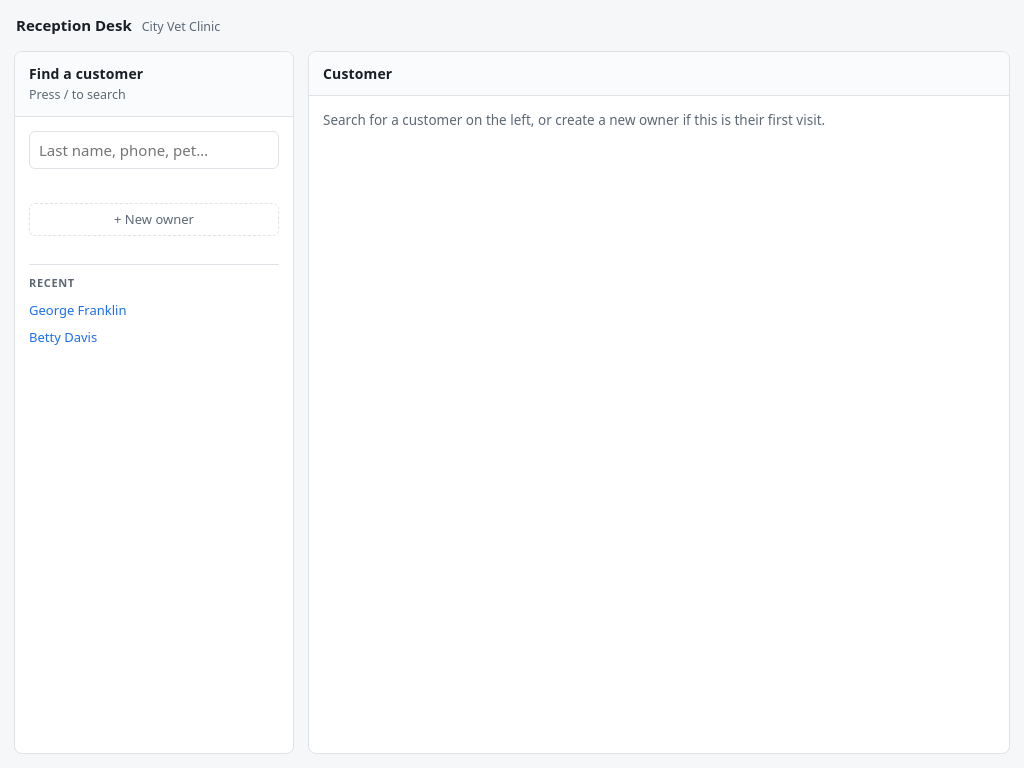
reception desk workflow › refreshes the search row when the owner behind it is edited
In the field named "search by last name": coordinates (154, 150) [29,130,279,169], type "Franklin"
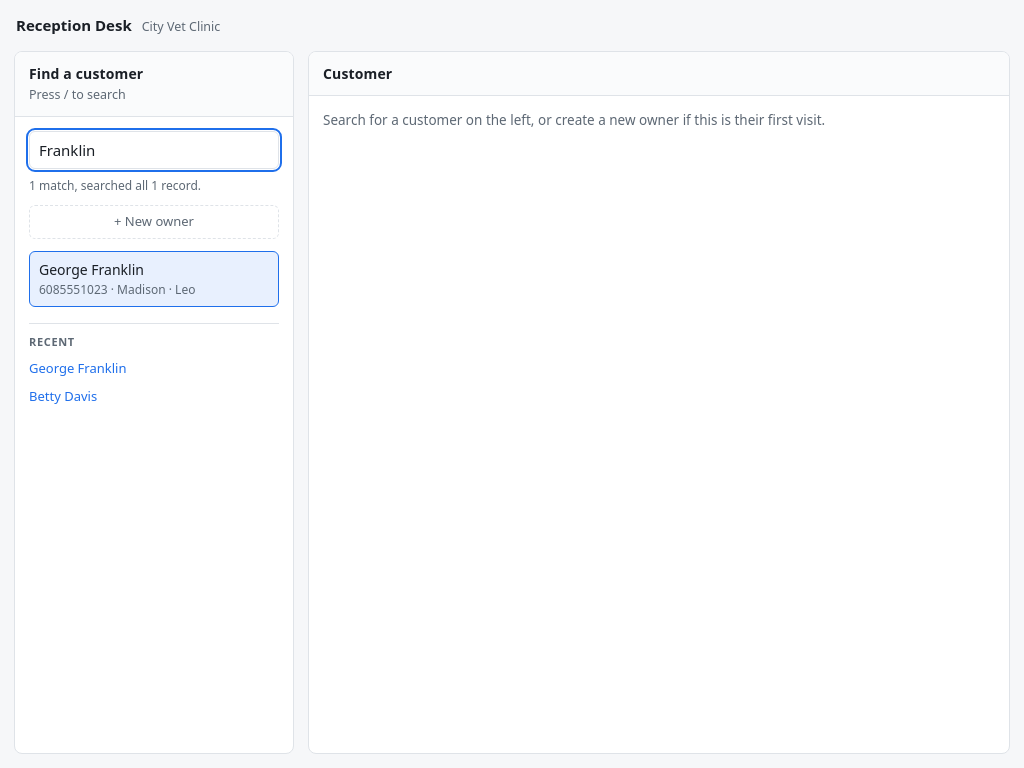
Click the button "George Franklin 6085551023 · Madison · Leo": coordinates (154, 278) [29,250,279,306]
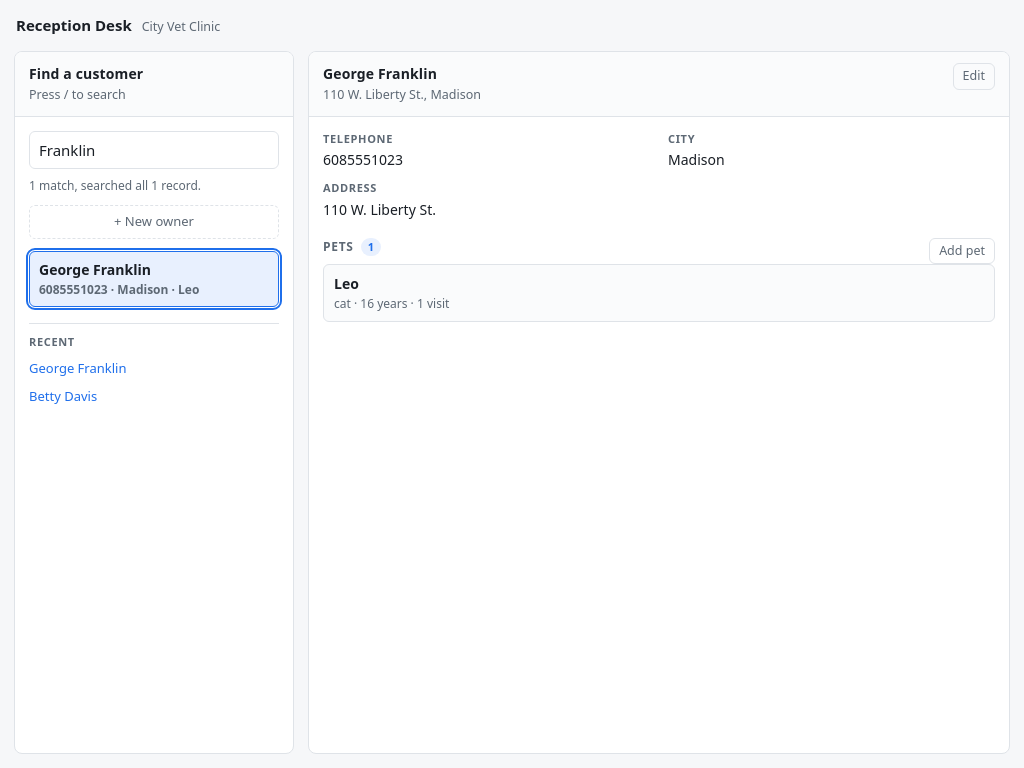
Click the button "Edit": coordinates (974, 76) [953,63,995,90]
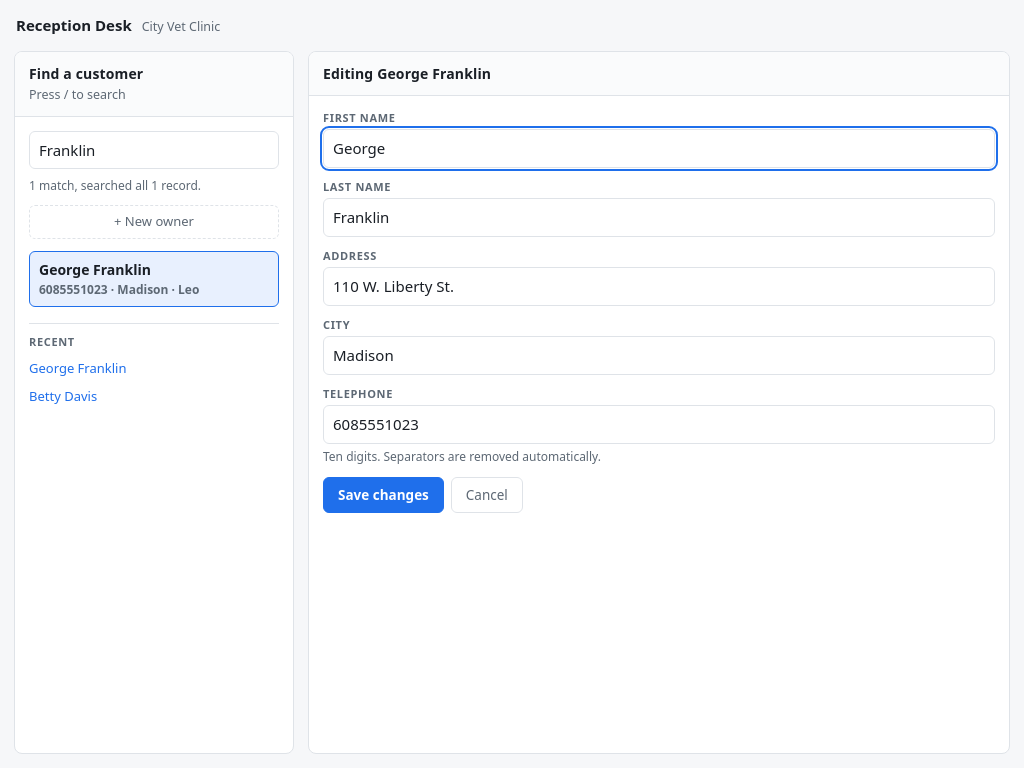
Replace the text in the field labelled "City" with "Stoughton": coordinates (659, 356) [323,336,995,375]
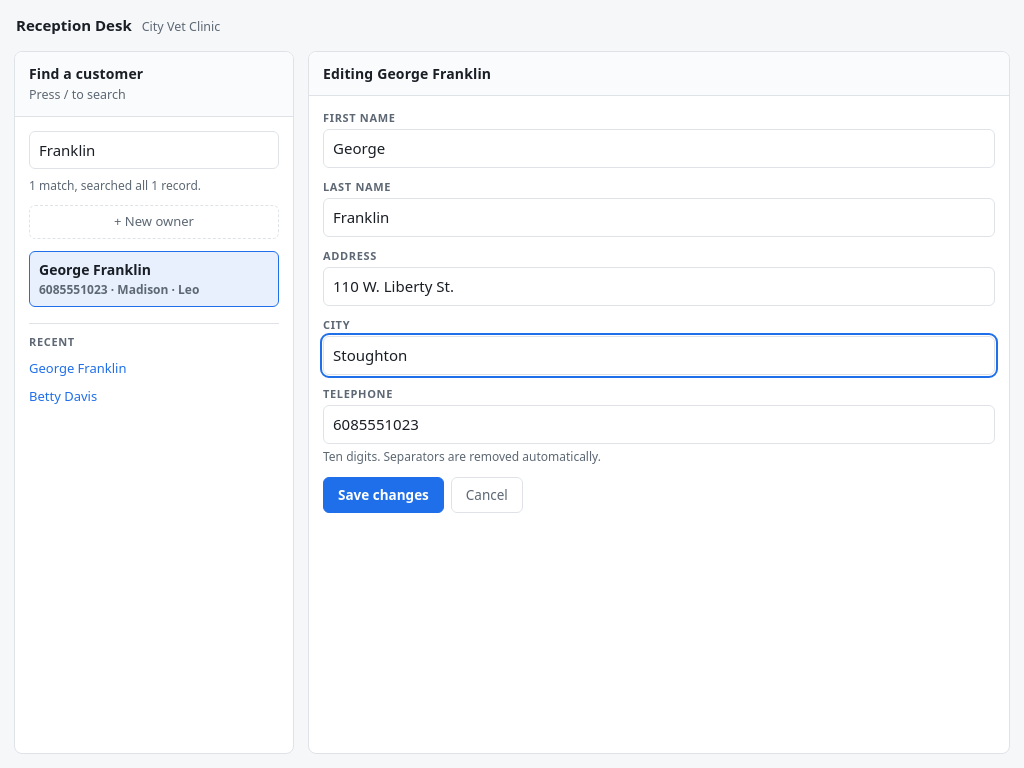
Click the button "Save changes": coordinates (383, 495) [323,477,444,513]
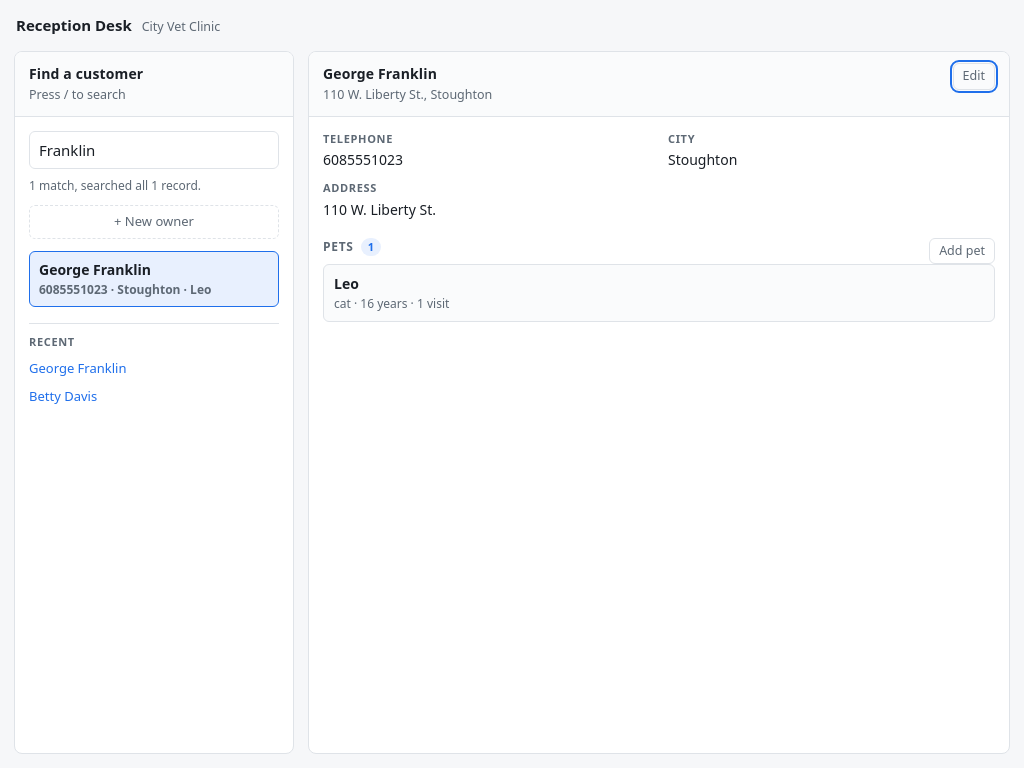
Expected: the text "6085551023 · Stoughton · Leo" is shown, [39,280,211,298]
